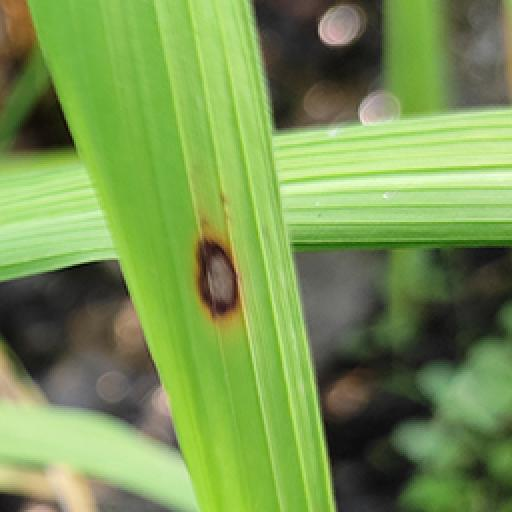Brown Spot: (186, 222, 252, 328)
